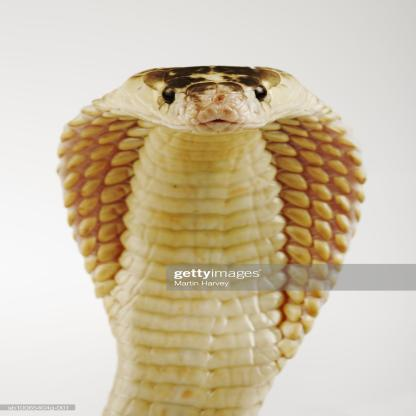Snake: (48, 60, 372, 416)
